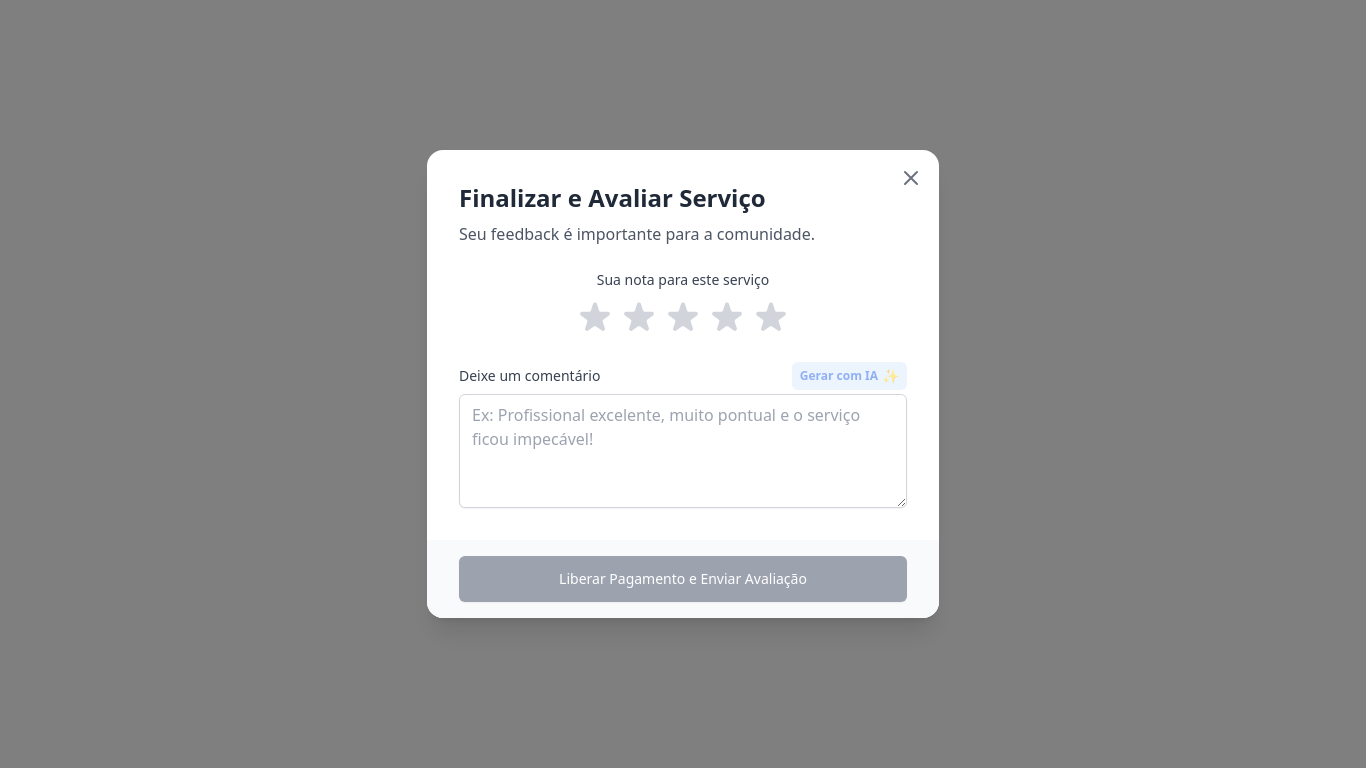
Test: ReviewModal › gera comentário com IA quando botão é clicado
Note: Seleciona rating primeiro
Click the 5th icon with class "cursor-pointer": (771, 318) [751,298,791,338]
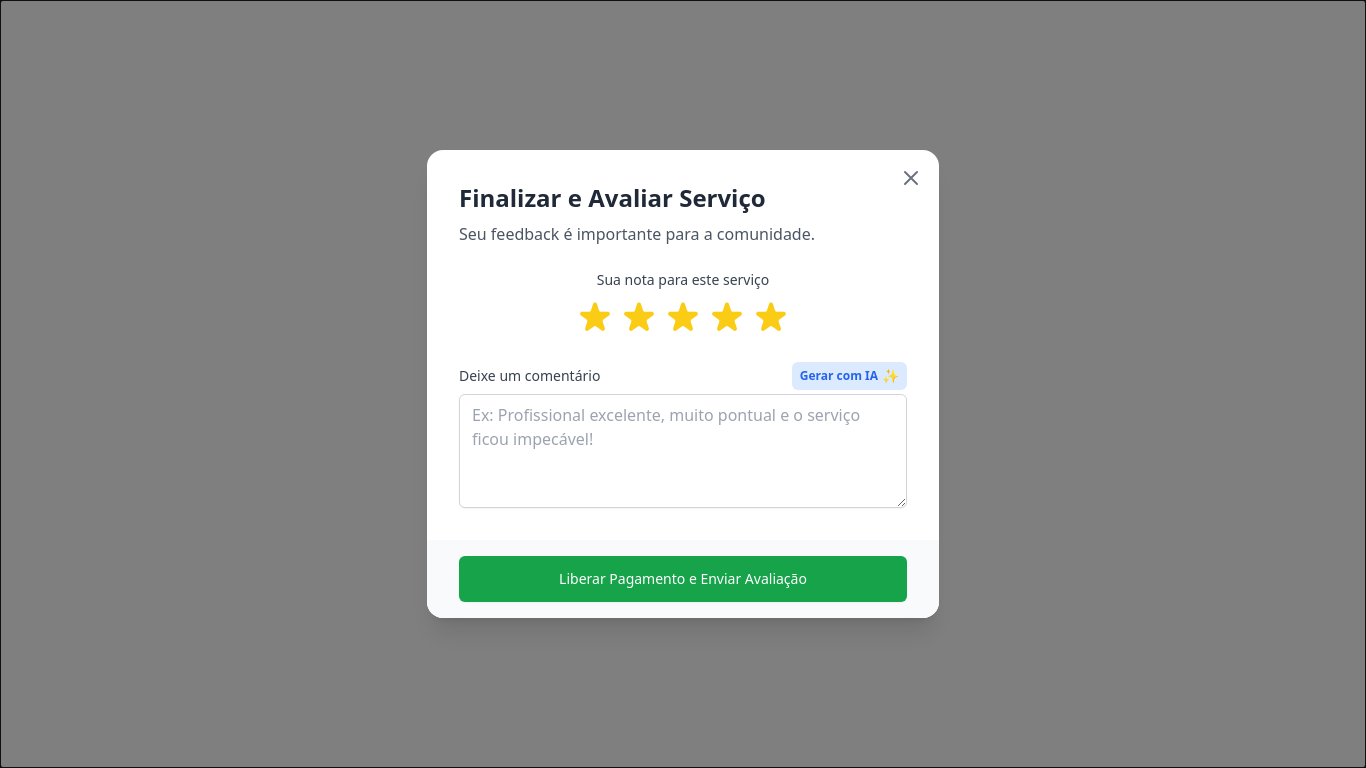
Note: Clica em gerar com IA
Click the button "Gerar com IA ✨": (849, 376) [792,362,907,390]
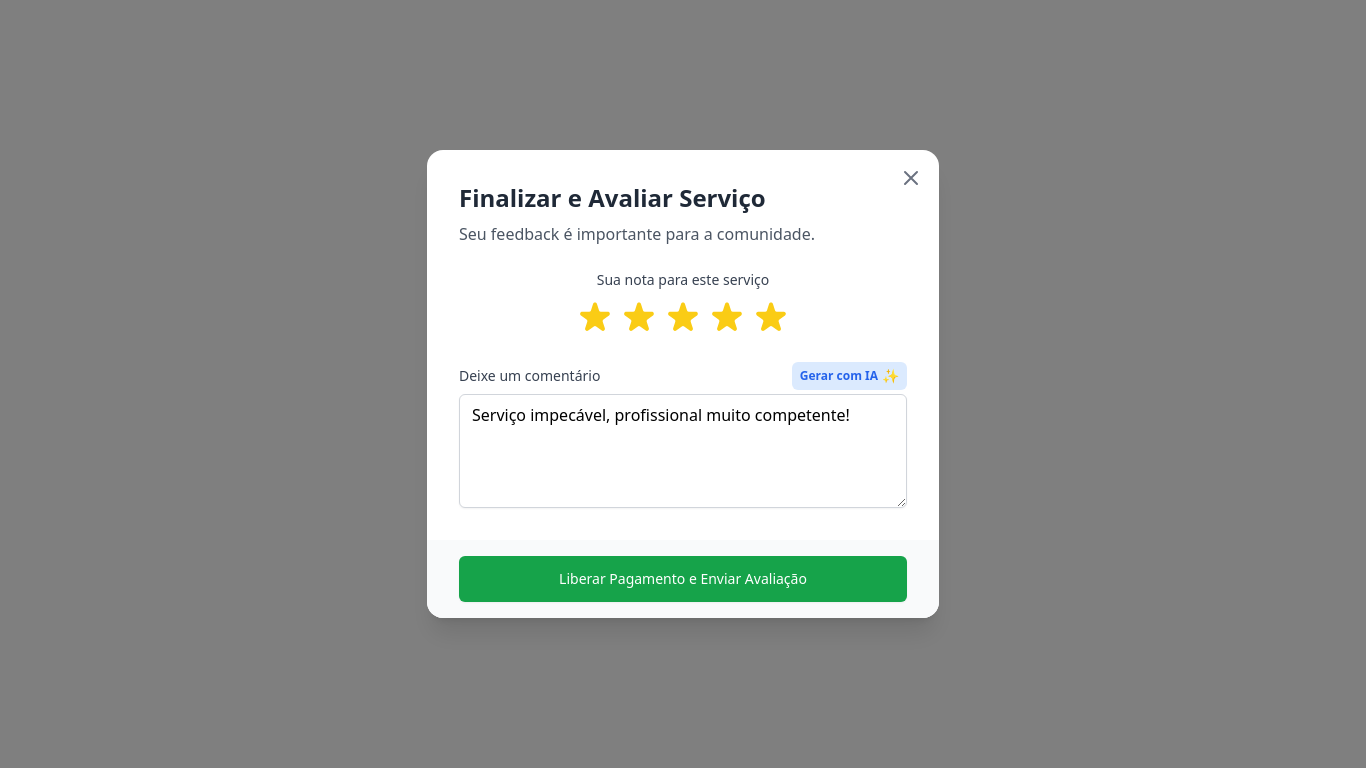
Expected: the text box labelled "Deixe um comentário" holds "Serviço impecável, profissional muito competente!", [459,394,907,508]
